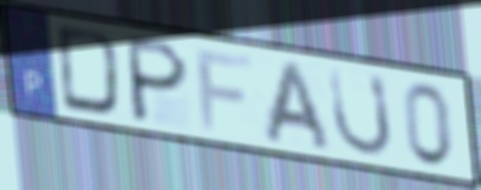0: (399, 79, 456, 170)
A: (260, 57, 335, 155)
D: (54, 22, 123, 119)
F: (193, 47, 255, 134)
P: (127, 33, 192, 127)
U: (326, 64, 396, 159)
